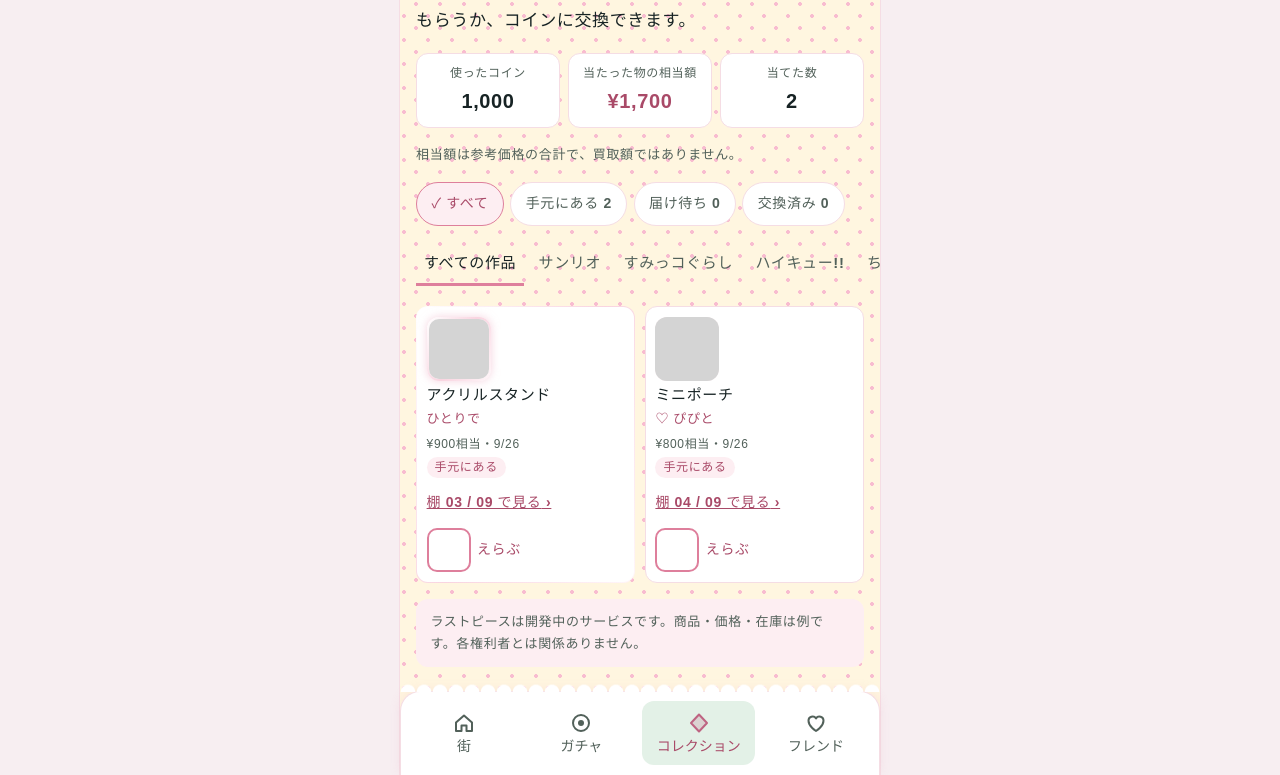
Scenario: 当てたものの計測（exchange / deliver） › コインに交換を確定すると exchange を 1 回、点数と得たコインの合計で送る
(page scrolled)
What coordinates should you click on to do the following:
click the checkbox labelled "えらぶ" below "ひとりで"
I would click on:
 (449, 550)
Its box is [427,528,471,572].
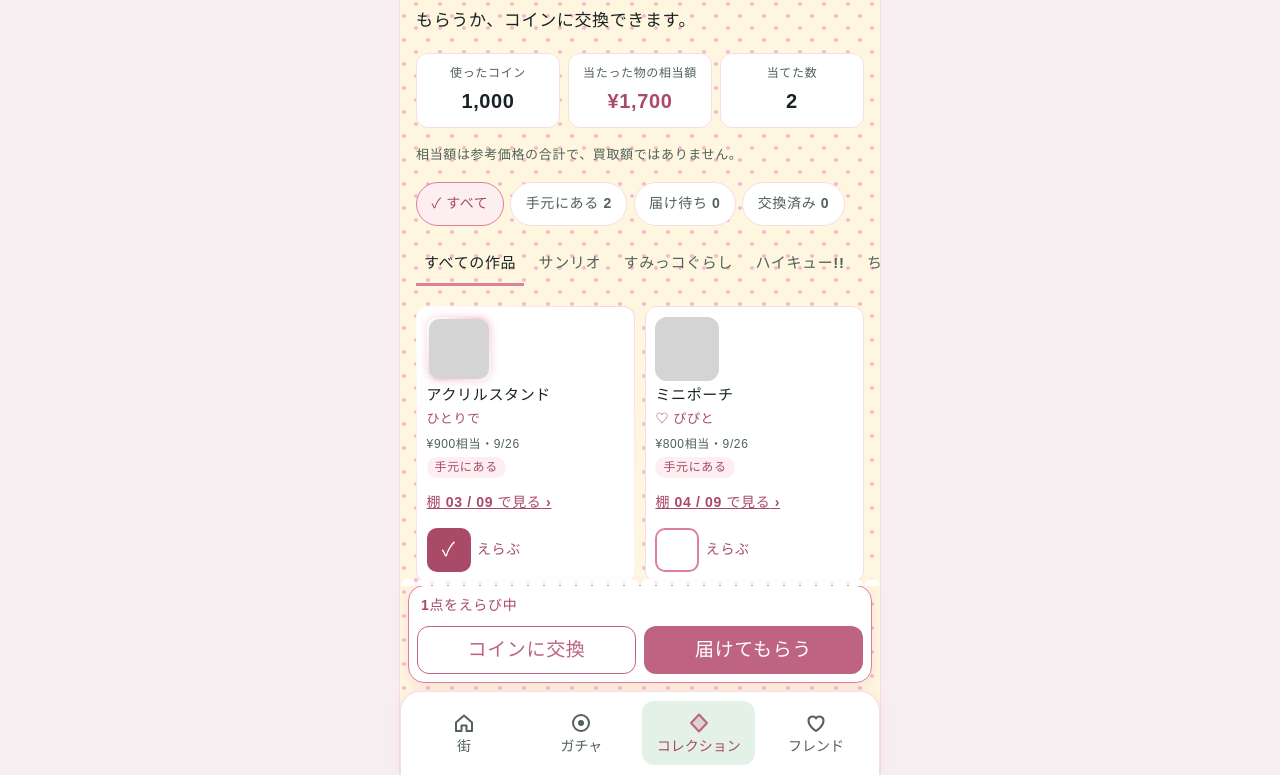
What coordinates should you click on to do the following:
click the 2nd checkbox labelled "えらぶ"
I would click on:
 (677, 550)
Its box is [655,528,699,572].
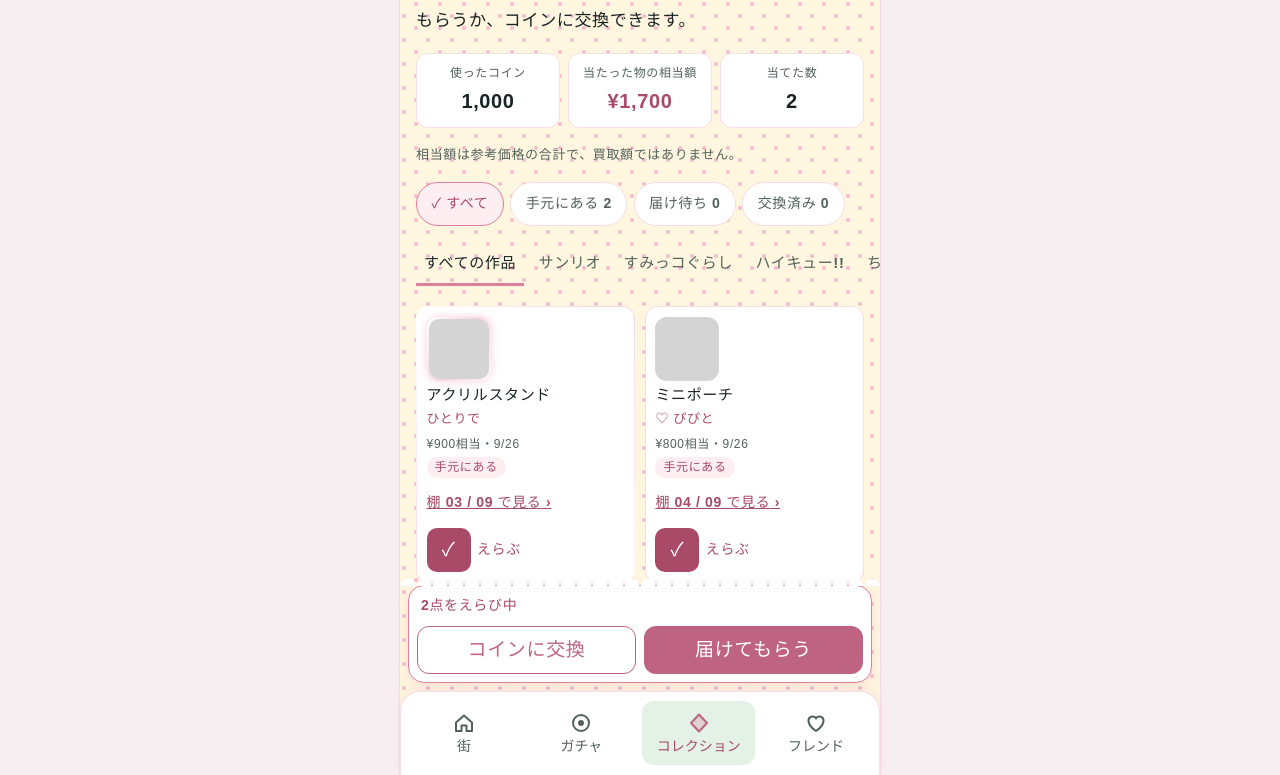
What coordinates should you click on to do the following:
click the button "コインに交換"
I would click on:
 (526, 650)
Its box is [417,626,636,674].
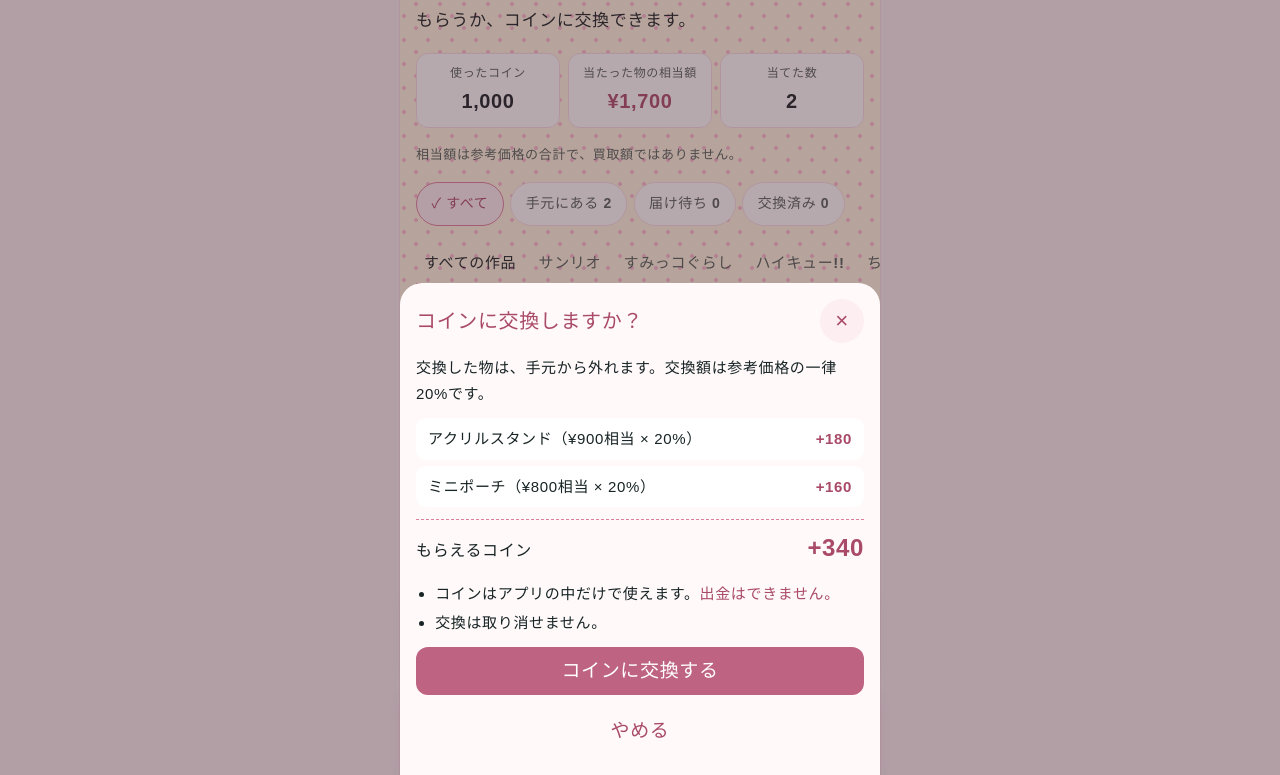
Expected: the text "出金はできません。" is shown, [700,585,840,602]
Expected: the list item "交換は取り消せません。" is shown, [435,614,607,630]
What coordinates should you click on to do the following:
click the button "コインに交換する"
I would click on:
 (640, 671)
Its box is [416,647,864,695].
(page scrolled)
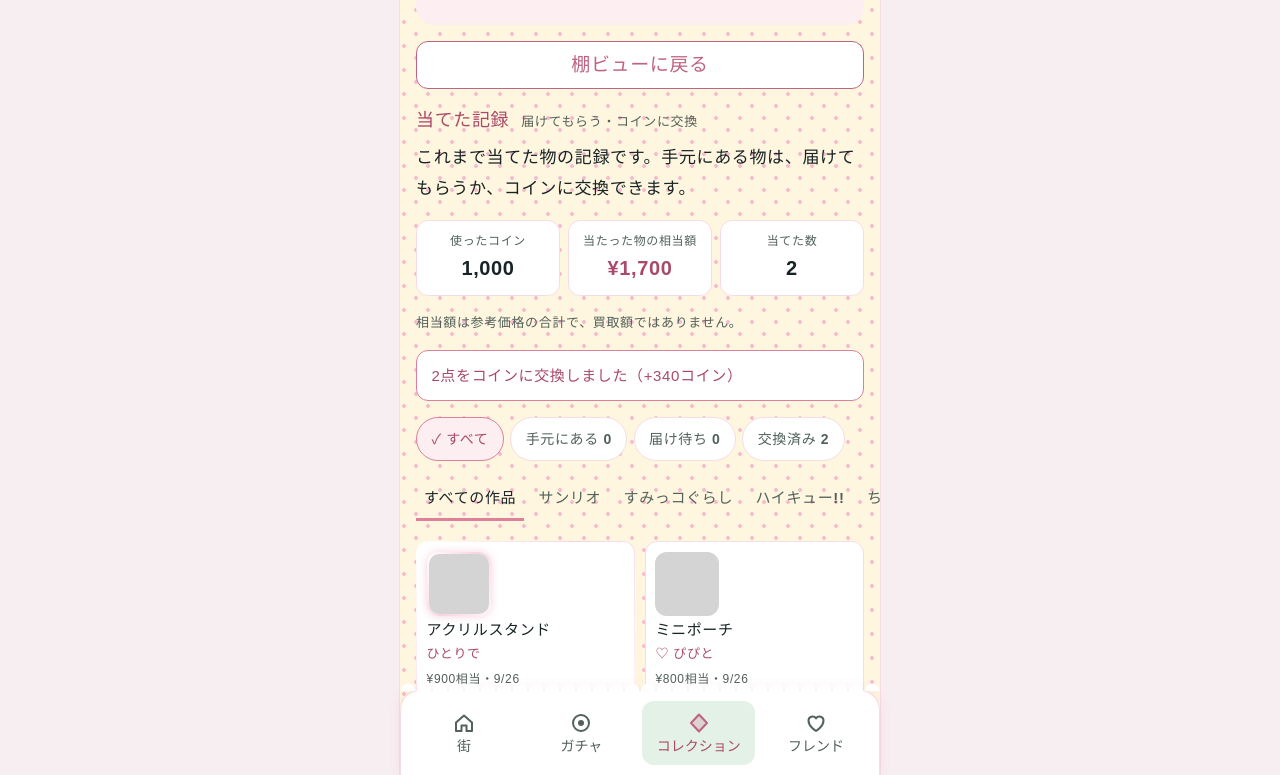
Expected: the message shows "2点をコインに交換しました", [431,367,743,384]
